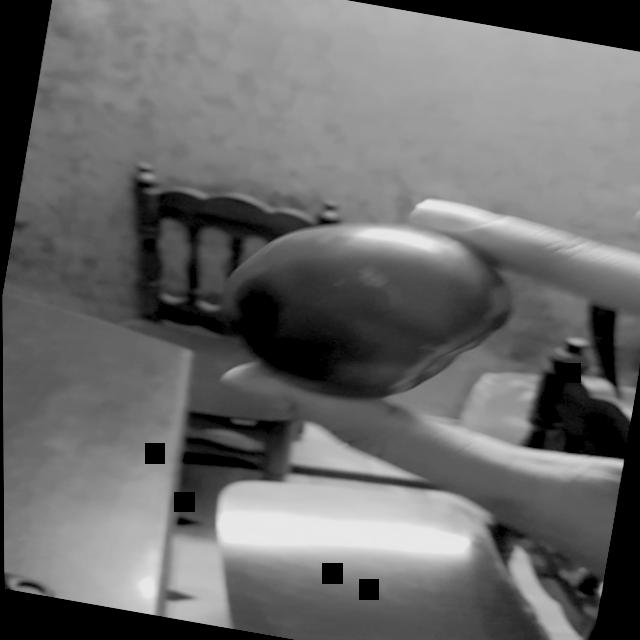tomato: (205, 182, 532, 426)
